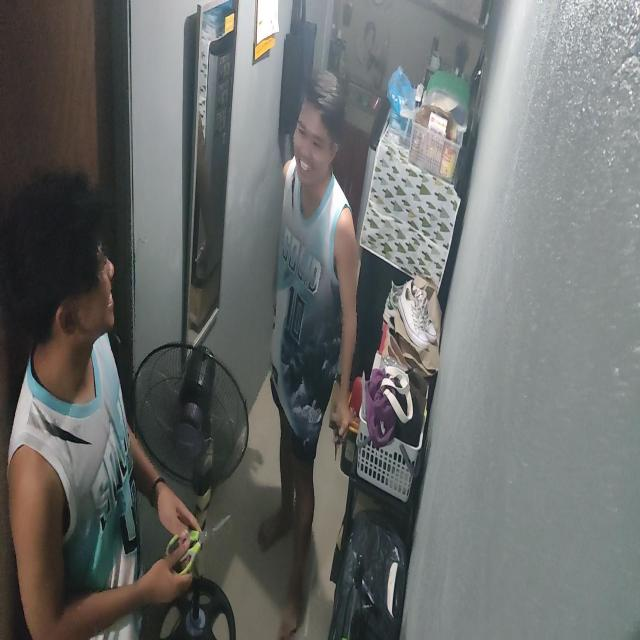scissor: (165, 511, 232, 585)
